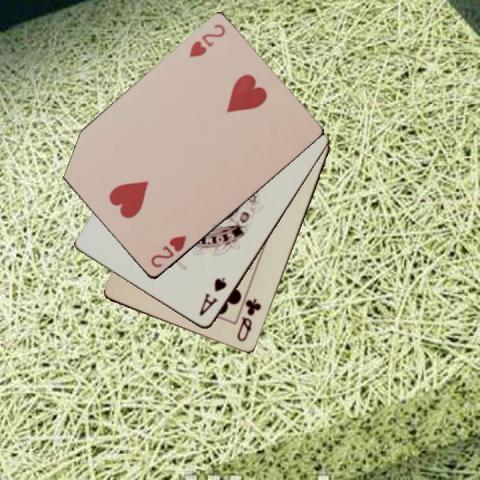2h: (186, 21, 228, 60), (147, 233, 188, 270)
As: (196, 274, 229, 319)
Qc: (234, 296, 263, 343)
